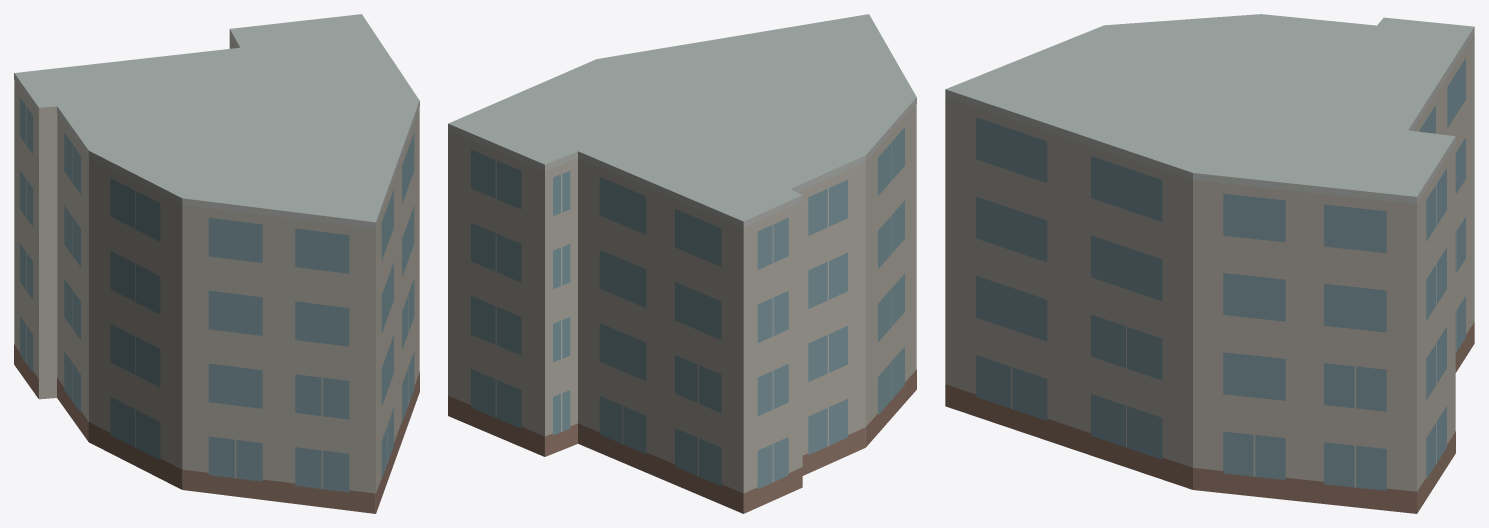
Rendered from survey-upis-32692684.glb.
The picture shows the model from 3 angles, left to right: view 1: azimuth 30°, elevation 25°; view 2: azimuth 150°, elevation 25°; view 3: azimuth 270°, elevation 25°; orthographic projection. The views are drawn at different scales.
Visible parts, largest first — view 1: survey-upis-32692684.tmp; view 2: survey-upis-32692684.tmp; view 3: survey-upis-32692684.tmp.
Boxes of the visible parts, x1,y1,x2,y2 form: survey-upis-32692684.tmp: (14,14,419,513); survey-upis-32692684.tmp: (448,14,916,513); survey-upis-32692684.tmp: (945,14,1474,513).
Bounding box in the file's own units: 13.38 × 10.8 × 16.35.
